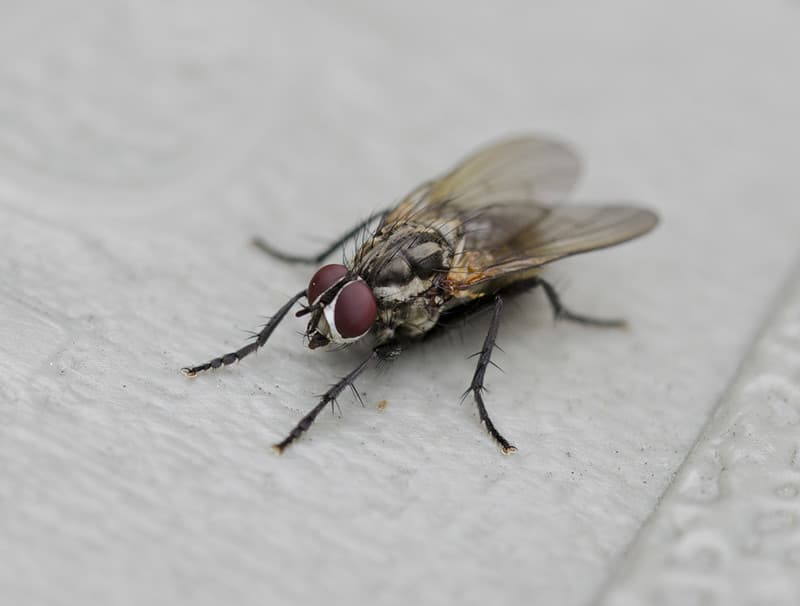house fly: (190, 124, 666, 468)
